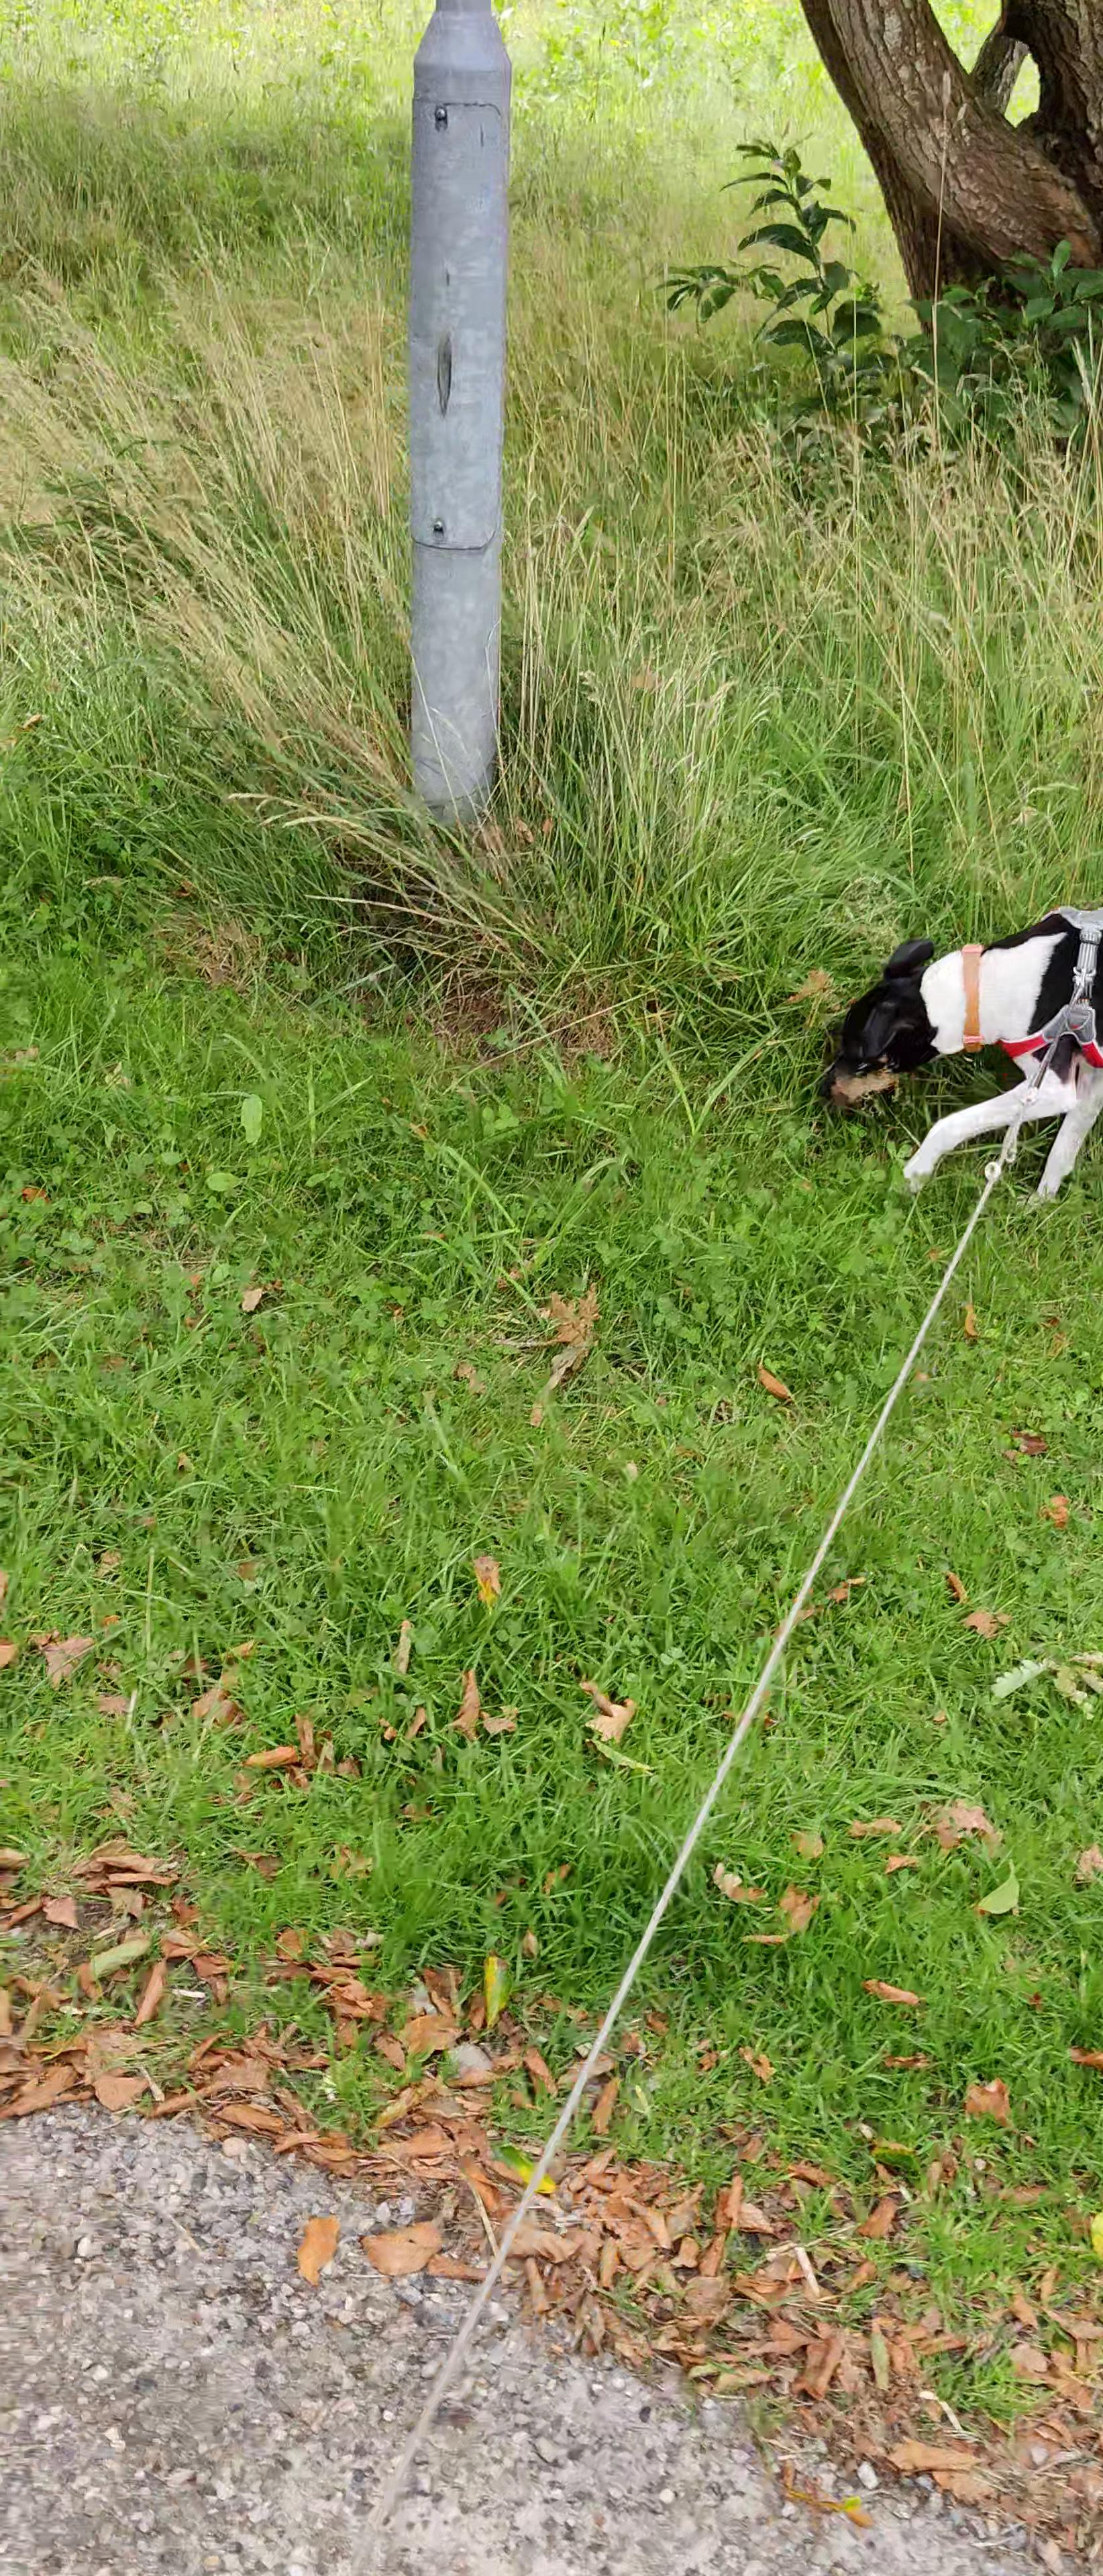Dog: (801, 874, 1103, 1234)
